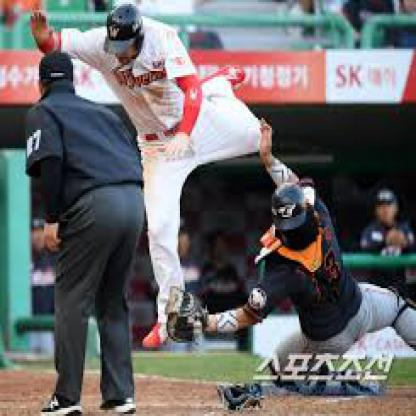Fall_Down: (187, 118, 414, 398)
